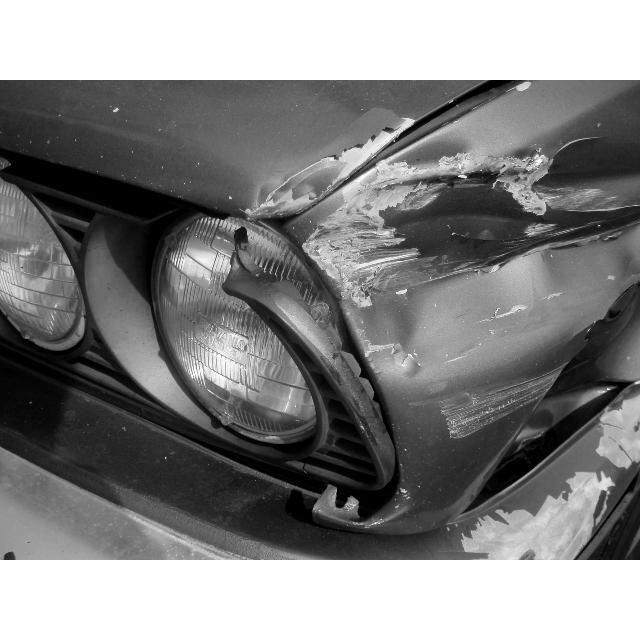Headlight-damage: (173, 165, 431, 560)
fender-dent: (447, 81, 639, 490)
